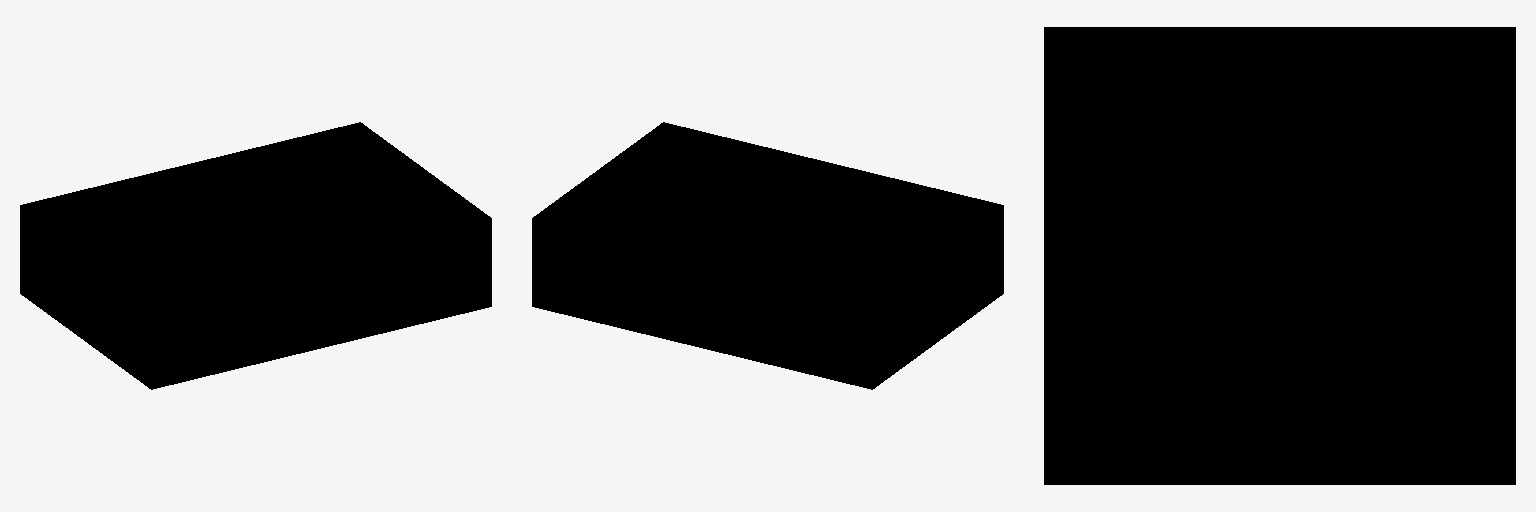
robot.urdf — cuboid_on_pin.urdf:
<robot name="cuboid_on_pin.urdf">
  <link name="base_link"/>

  <link name="cuboid">
    <contact>
      <lateral_friction value="1.0"/>
      <rolling_friction value="0.0"/>
      <contact_cfm value="0.0"/>
      <contact_erp value="1.0"/>
    </contact>
    <inertial>
      <origin rpy="0 0 0" xyz="0 0 0."/>
       <mass value="1.0"/>
       <inertia ixx="1" ixy="0" ixz="0" iyy="1" iyz="0" izz="1"/>
    </inertial>
    <visual>
      <origin rpy="0 0 0" xyz="0 0 0."/>
      <geometry>
				<box size="0.6 0.4 0.15"/>
      </geometry>
       <material name="black">
        <color rgba="0 0 0 1"/>
      </material>
    </visual>
    <collision>
      <origin rpy="0 0 0" xyz="0 0 0"/>
      <geometry>
    	 	<box size="0.6 0.4 0.15"/>
      </geometry>
    </collision>
  </link>

  <joint name="joint1" type="continuous">
    <parent link="base_link"/>
    <child link="cuboid"/>
    <origin xyz="0 0 0" rpy="0 0 0" />
    <axis xyz = "0 0 1" />
  </joint>

</robot>

--- Facts derived from the render (not from the file) ---
The picture shows the robot from 3 angles, left to right: view 1: azimuth 30°, elevation 25°; view 2: azimuth 150°, elevation 25°; view 3: azimuth 270°, elevation 25°; orthographic projection.
Model cuboid_on_pin.urdf with 2 links and 1 joints (1 continuous), rooted at base_link, posed every joint at zero.
Visible links, largest first — view 1: cuboid; view 2: cuboid; view 3: cuboid.
Link boxes in pixels (x1,y1,x2,y2): cuboid: (20, 122, 491, 389); cuboid: (532, 122, 1003, 389); cuboid: (1044, 27, 1515, 484).
Bounding box of the posed robot: 0.6 × 0.4 × 0.15 m (x, y, z).
Geometry: primitives only (box / cylinder / sphere), no mesh files.
